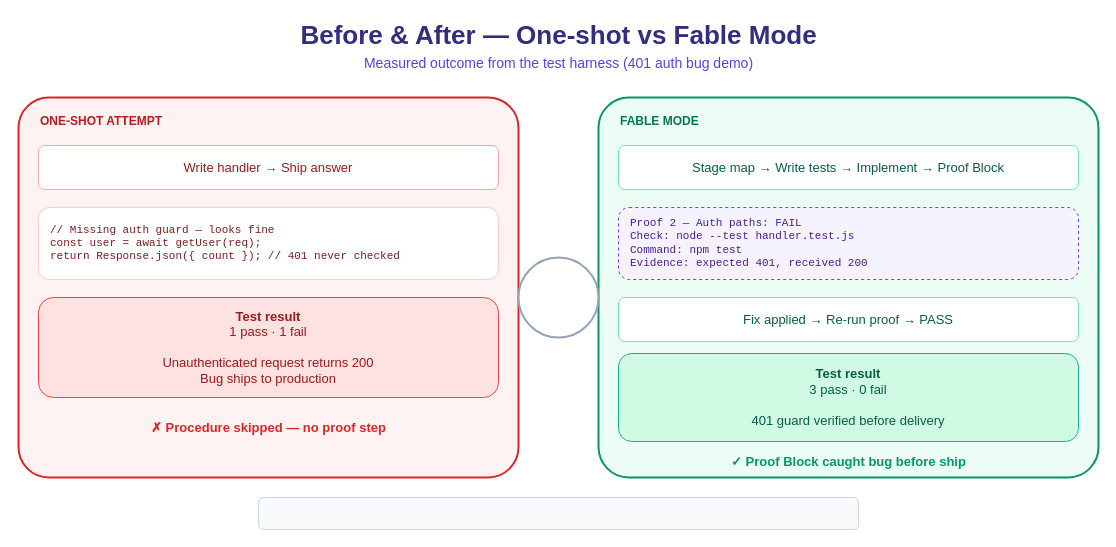
Image size: 1116x547. Some labels were removed from this diagram. The centre of each missing label's shape, as x and y in pixels:
Same model · Same task · Different procedure: the point at 558,513
VS: the point at 558,297
